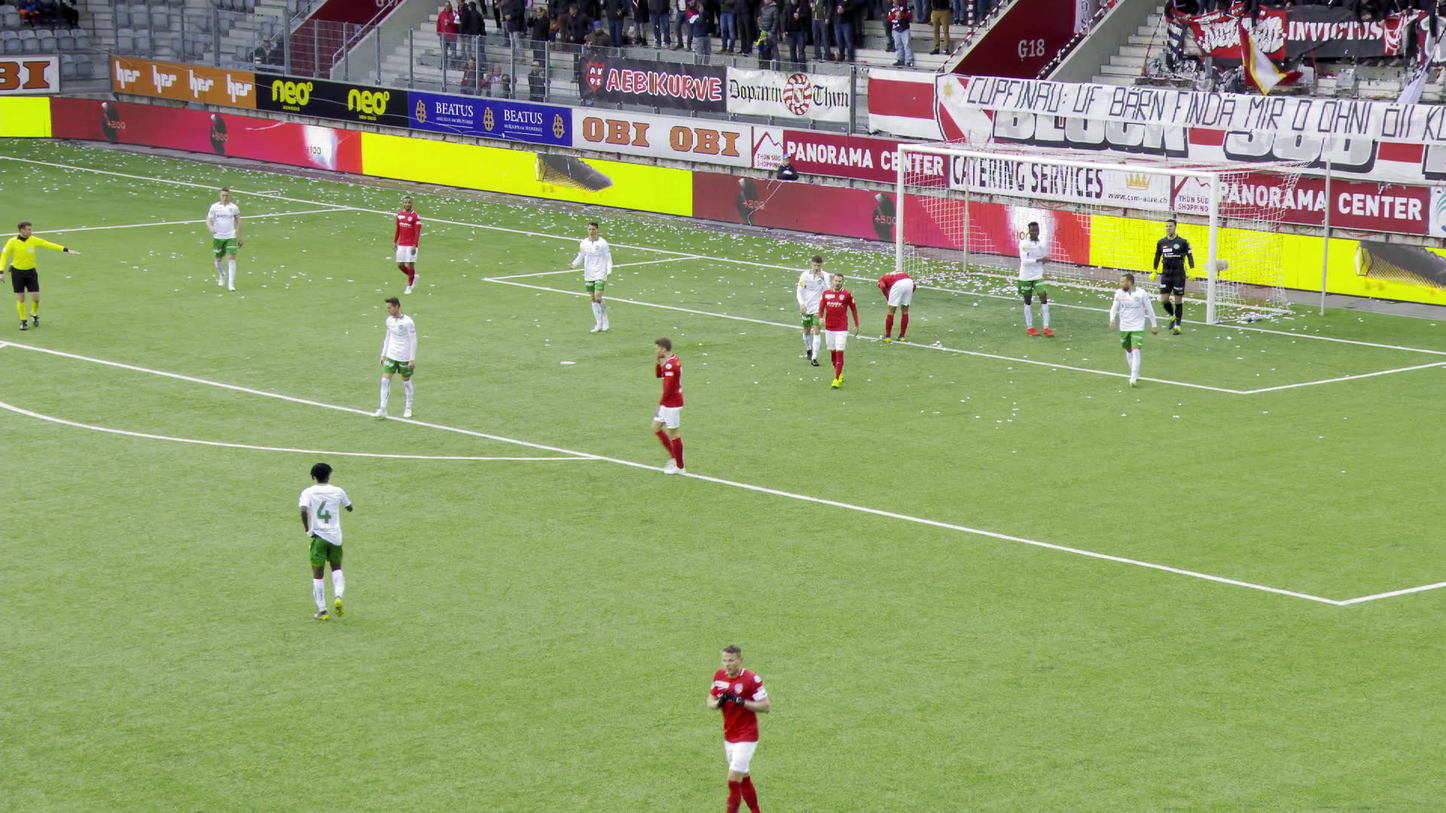player: (707, 646, 776, 812), (298, 461, 356, 621), (648, 335, 702, 476), (371, 294, 419, 419), (1106, 272, 1156, 386), (569, 221, 618, 333), (1151, 219, 1197, 335), (816, 272, 861, 390), (1016, 221, 1055, 339), (205, 187, 246, 291), (795, 254, 833, 366), (389, 194, 428, 294), (876, 269, 915, 343)
referee: (0, 221, 83, 333)
